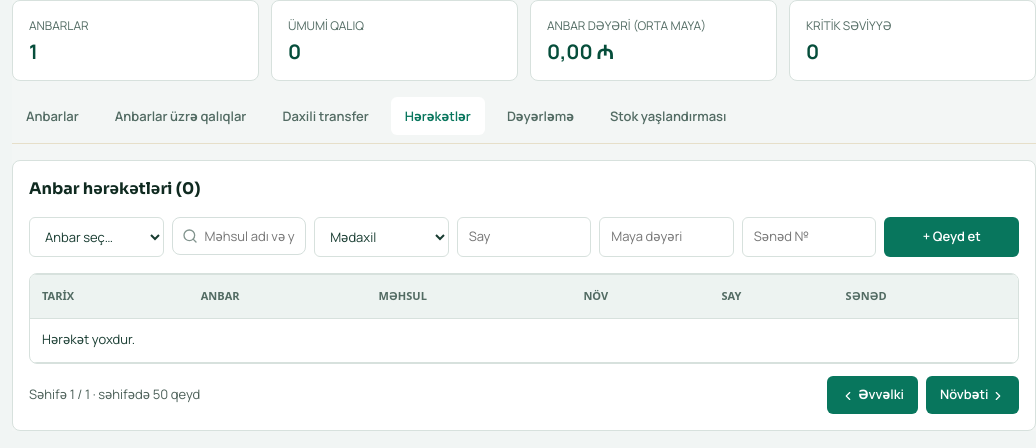
Scenario: exposes freshly created products from the shared catalog without a realtime round trip
Earlier steps of the test are not shown.
Type "NEW-SKU" into the field with placeholder "Məhsul adı və ya SKU yazın" at (239, 236), box [172,217,306,255]
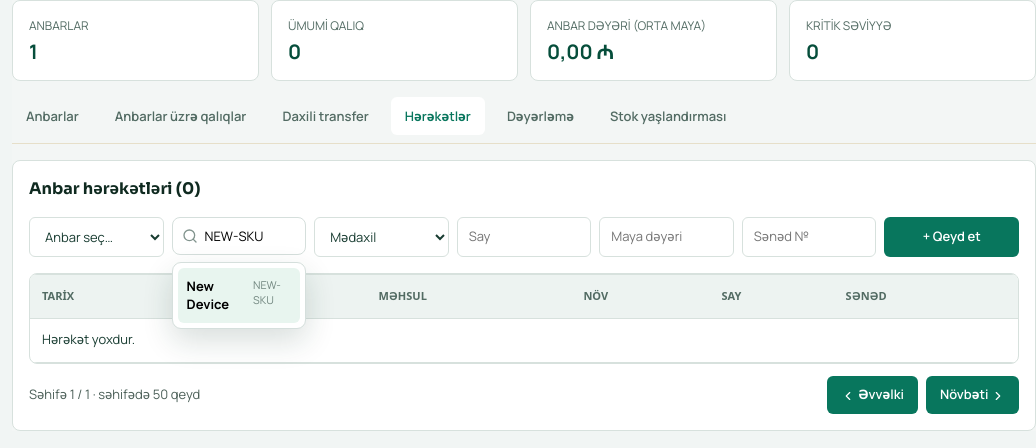
Click the button "New Device NEW-SKU" at (239, 295), box [178,268,300,323]
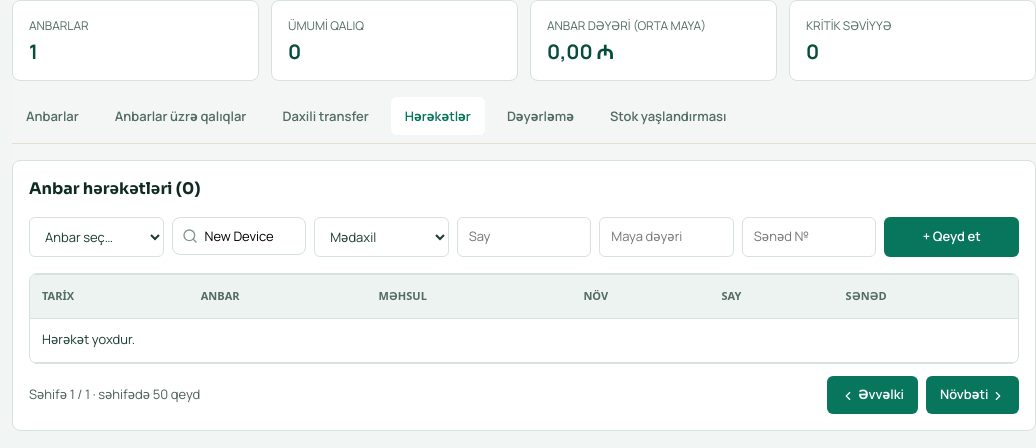
Expected: the field with placeholder "Məhsul adı və ya SKU yazın" holds "New Device", [172,217,306,255]
